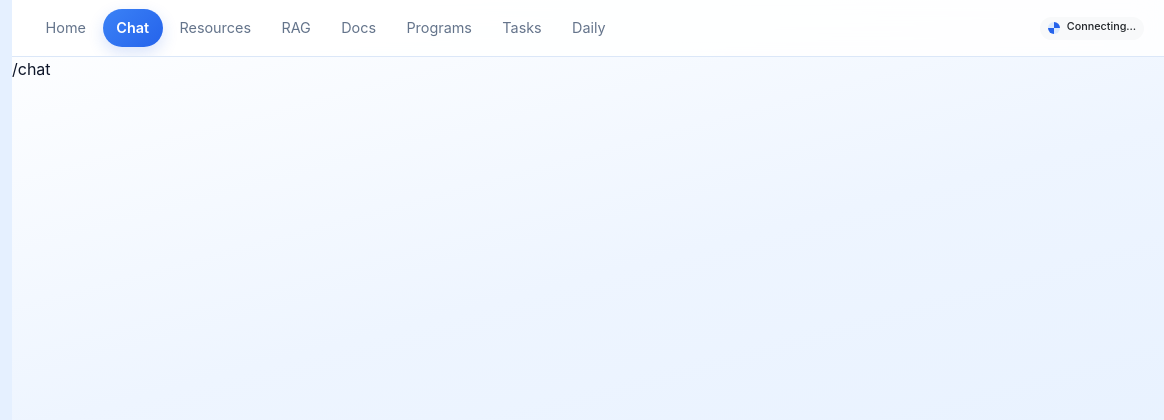
it: SBANavigation › handles navigation link clicks
Click the link "RAG". click: [296, 27]
box: [281,19,311,36]
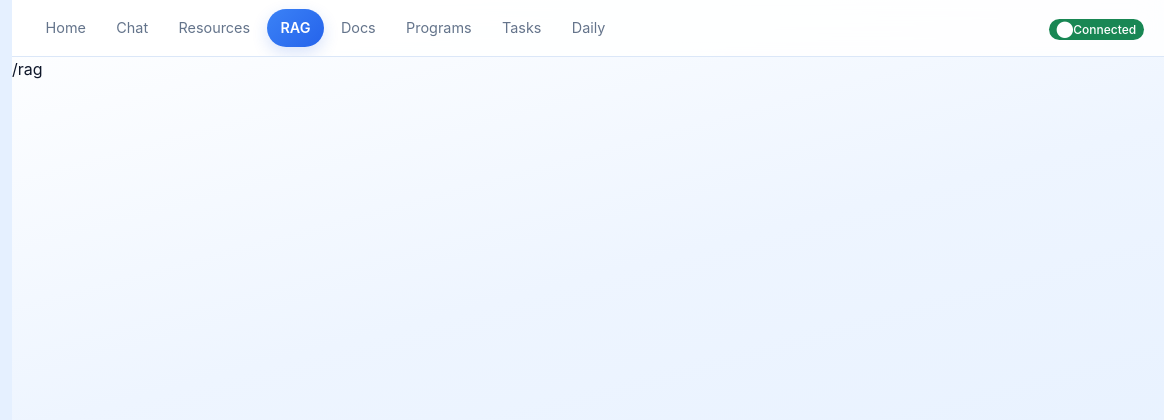
Check: the text with test id "where" reads "/rag", box [12,59,43,79]
